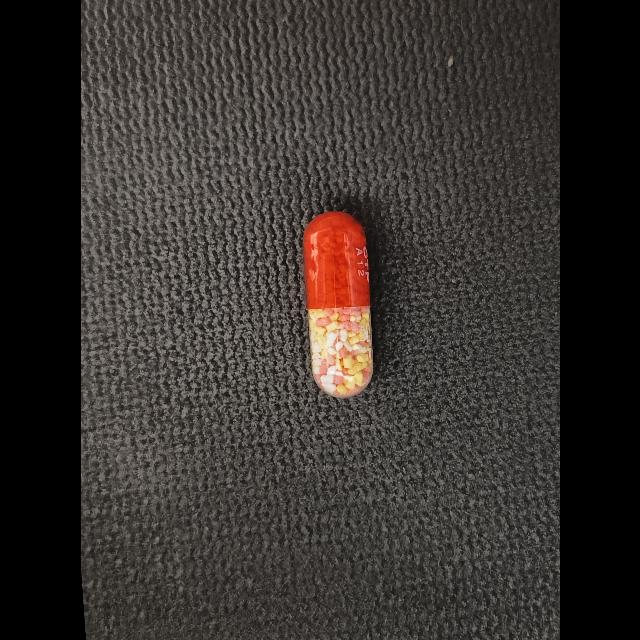Intact Capsule: (302, 212, 373, 398)
